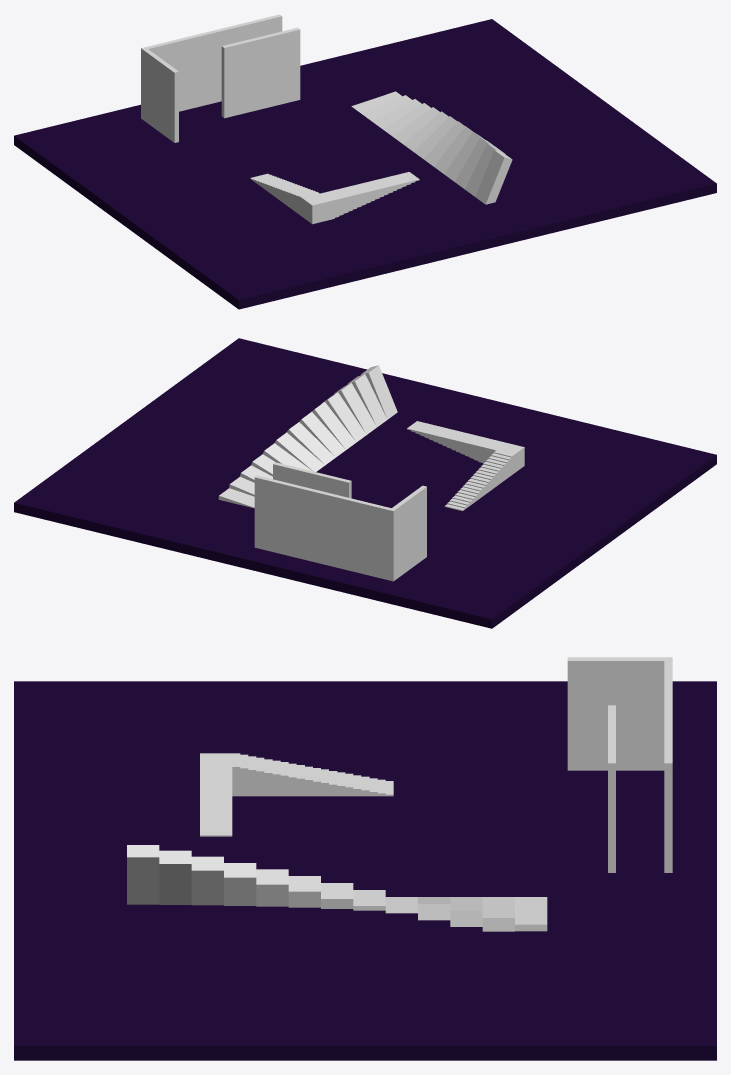
File: dev_map.glb
3 renders of one model, top to bottom at view 1: azimuth 30°, elevation 25°; view 2: azimuth 150°, elevation 25°; view 3: azimuth 270°, elevation 25°, orthographic. The views are drawn at different scales.
Visible parts, largest first — view 1: Plane, Cube, Ramps, Stairs; view 2: Plane, Cube, Ramps, Stairs; view 3: Plane, Ramps, Cube, Stairs.
Part boxes in pixels (x1,y1,x2,y2): Plane: [14, 19, 716, 309]; Cube: [141, 14, 300, 142]; Ramps: [351, 91, 512, 204]; Stairs: [250, 172, 419, 224]; Plane: [14, 338, 716, 628]; Cube: [254, 462, 426, 581]; Ramps: [218, 365, 397, 508]; Stairs: [407, 421, 524, 511]; Plane: [14, 681, 716, 1060]; Ramps: [127, 845, 547, 931]; Cube: [567, 657, 672, 872]; Stairs: [200, 753, 393, 836].
Size of what is drawn, in the model's own units: 107 by 17 by 87.
